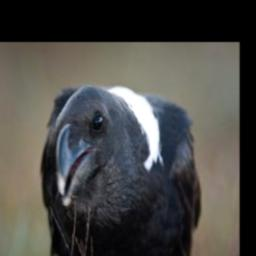Crow: (39, 82, 199, 256)
